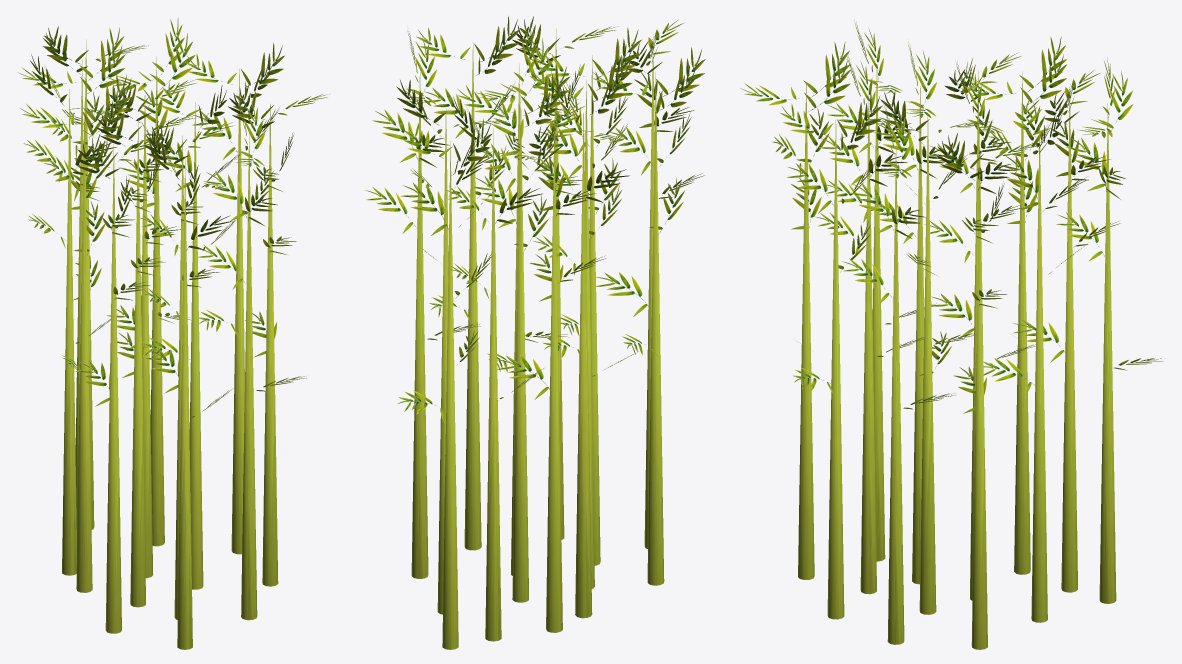
File: bamboo_Vr4.fbx
3 views of the same model, side by side, from view 1: azimuth 30°, elevation 25°; view 2: azimuth 150°, elevation 25°; view 3: azimuth 270°, elevation 25° (orthographic). The views are drawn at different scales.
Parts seen in each view (by area): view 1: polySurface87; view 2: polySurface87; view 3: polySurface87.
Boxes of the visible parts, x1,y1,x2,y2 form: polySurface87: (17,17,330,649); polySurface87: (364,16,705,649); polySurface87: (740,21,1163,649).
Bounding box in the file's own units: 5.62 × 10.42 × 7.73.
Materials: 2 (2 with a texture image).
